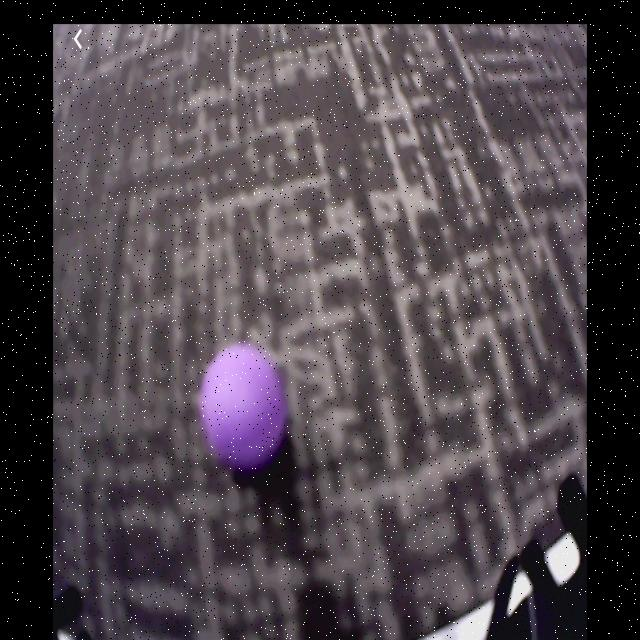ball: (201, 345, 289, 470)
